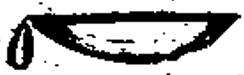Basket: (5, 10, 243, 73)
